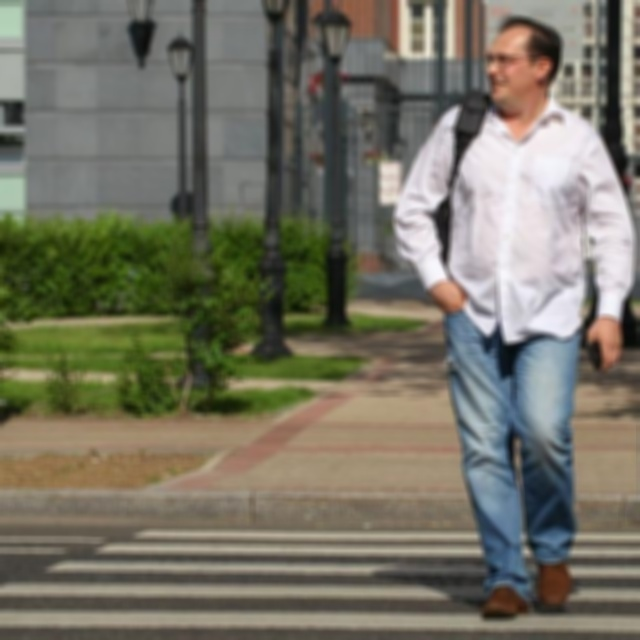Sin_Casco_Mascarrilla: (487, 18, 563, 106)
Sin_Chaleco: (432, 105, 599, 341)
